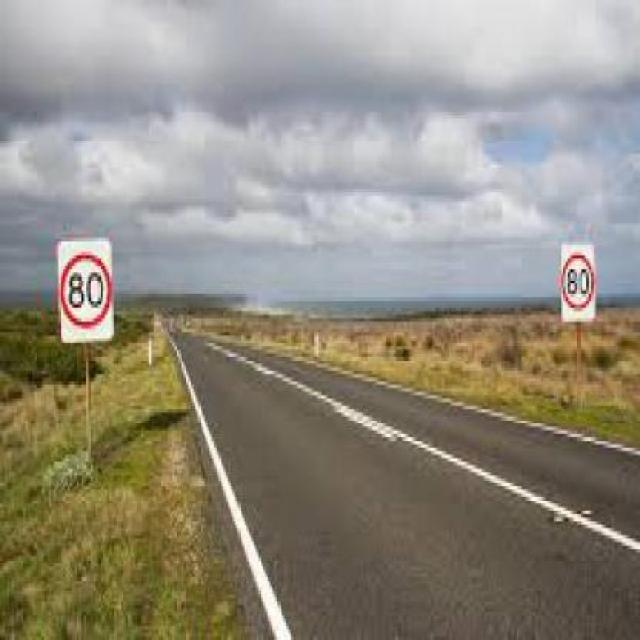forb_speed_over_80: (62, 249, 113, 328), (559, 253, 595, 309)
